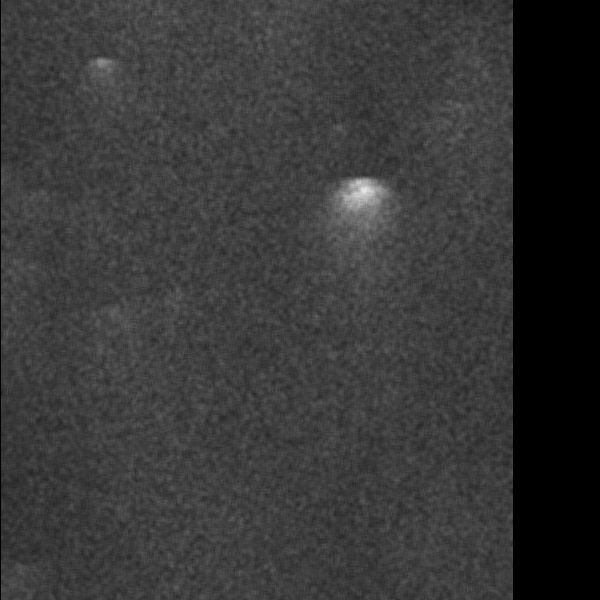spark: (43, 389, 96, 437), (368, 244, 410, 289), (361, 357, 405, 399), (356, 122, 378, 189), (380, 305, 405, 324)
